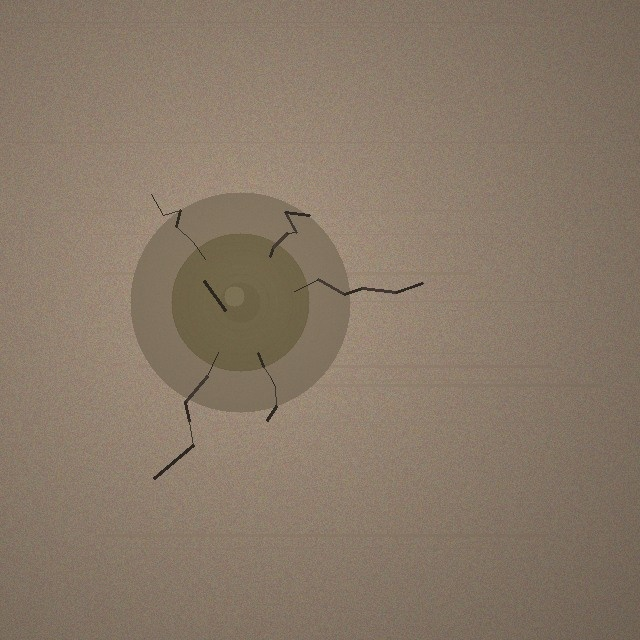crack: (130, 192, 350, 412)
